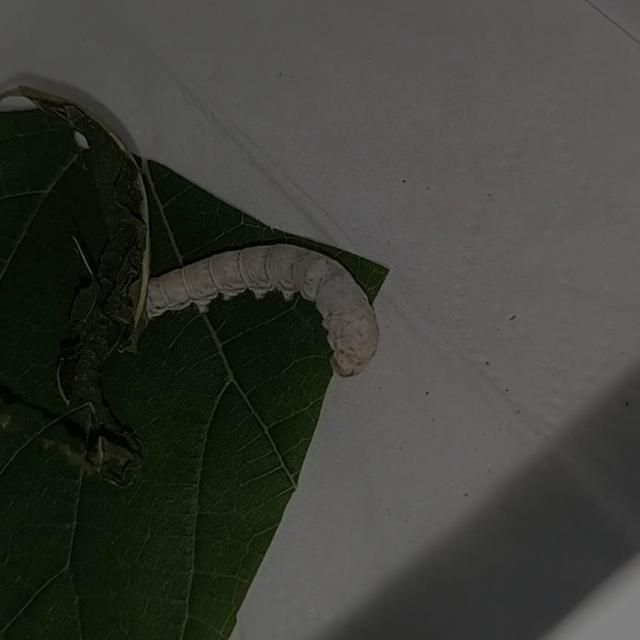Healthy: (110, 224, 397, 394)
